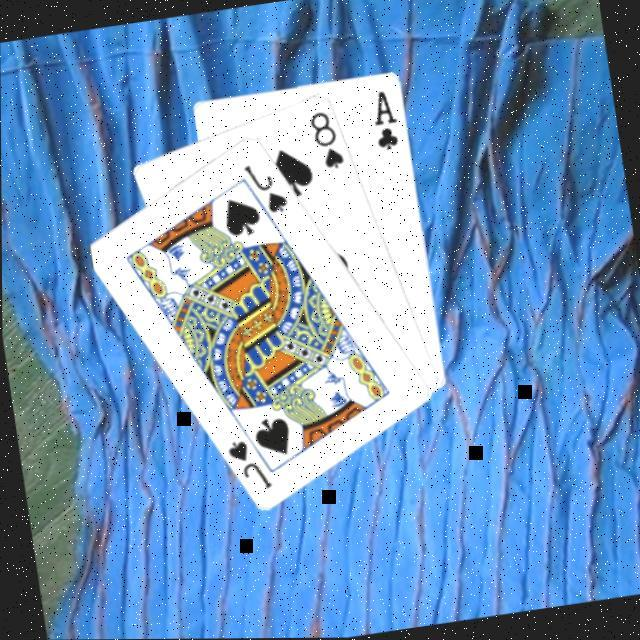8S: (304, 105, 347, 175)
AC: (366, 88, 403, 155)
JS: (221, 433, 274, 498), (237, 157, 290, 221)
